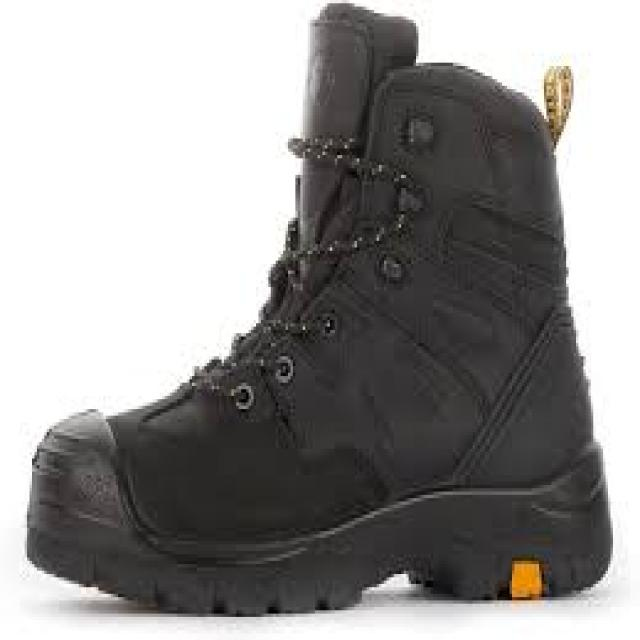shoes: (28, 7, 609, 612)
